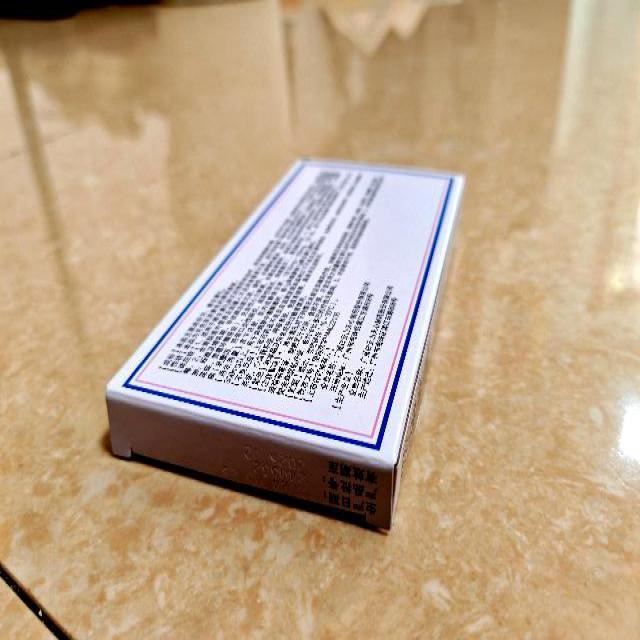box: (108, 157, 466, 531)
